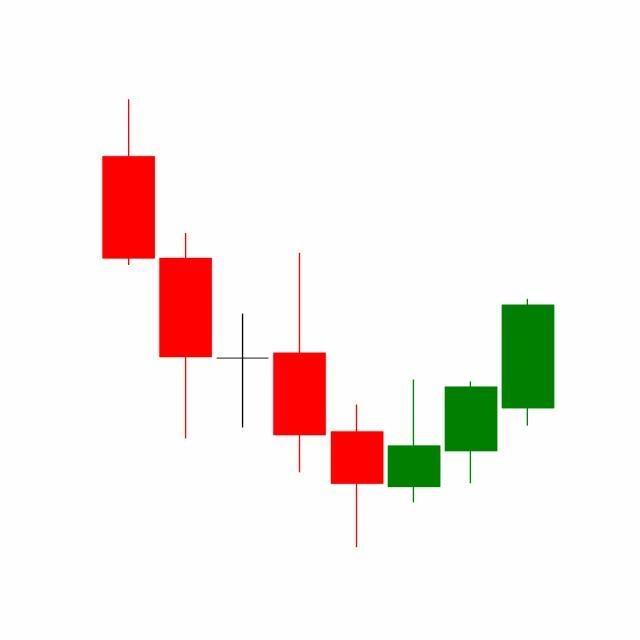Hikkake Pattern: (270, 249, 555, 549)
